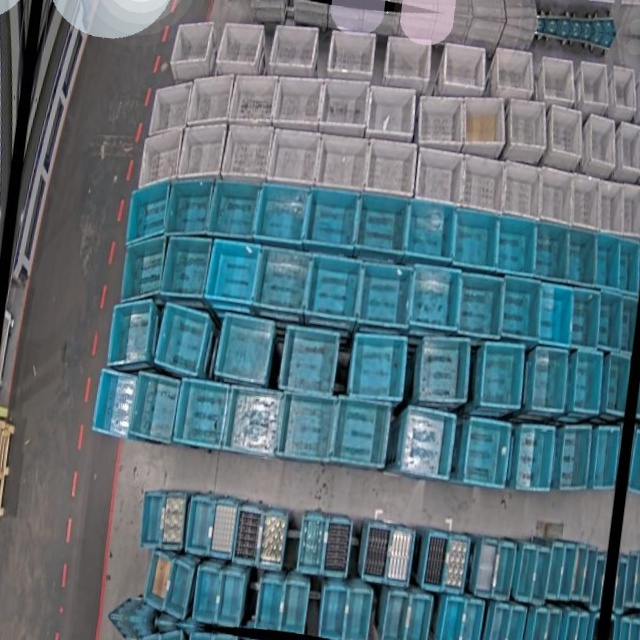Box: (277, 323, 342, 400), (213, 310, 276, 387), (346, 329, 410, 404), (224, 385, 286, 460), (152, 300, 211, 378), (328, 396, 390, 470), (398, 405, 458, 481), (301, 252, 364, 324), (252, 244, 313, 317), (173, 376, 232, 451), (415, 334, 473, 408), (124, 370, 181, 445), (202, 236, 261, 308), (280, 391, 337, 465), (301, 184, 362, 253), (354, 259, 414, 329), (158, 231, 215, 303), (254, 180, 312, 248), (351, 191, 409, 258), (407, 264, 464, 332), (205, 175, 262, 243), (162, 172, 217, 242), (218, 120, 274, 188), (401, 198, 458, 264), (267, 126, 323, 193), (461, 415, 512, 488), (134, 125, 187, 195), (106, 295, 153, 373), (119, 232, 167, 308), (475, 340, 526, 411), (455, 272, 508, 339), (89, 368, 139, 439), (178, 119, 230, 185), (414, 91, 471, 151), (315, 131, 371, 192), (125, 175, 171, 249), (447, 206, 500, 270), (364, 138, 420, 198), (412, 146, 467, 207), (364, 82, 419, 143), (316, 74, 371, 135), (272, 72, 327, 131), (498, 275, 545, 343), (226, 69, 280, 128), (512, 422, 558, 491), (184, 69, 235, 130), (528, 345, 572, 414), (491, 214, 539, 277), (490, 44, 541, 103), (458, 154, 508, 213), (459, 93, 511, 149), (147, 77, 192, 140), (499, 160, 546, 220), (534, 52, 582, 109), (556, 423, 595, 493), (533, 283, 575, 347), (529, 220, 571, 282), (534, 167, 577, 227), (564, 174, 606, 233), (383, 35, 435, 82), (569, 349, 606, 415), (561, 226, 601, 287), (506, 98, 552, 150), (590, 179, 631, 237), (269, 23, 319, 70), (327, 28, 377, 75), (169, 17, 215, 68), (216, 19, 265, 66), (602, 62, 640, 122), (565, 288, 602, 349), (546, 104, 588, 157), (442, 44, 490, 90), (601, 352, 634, 418), (297, 512, 330, 576), (254, 507, 287, 571), (591, 230, 626, 290), (182, 493, 215, 556), (592, 425, 623, 492), (157, 488, 189, 552), (584, 113, 621, 168), (207, 497, 239, 560), (232, 505, 264, 567), (321, 514, 352, 578), (593, 291, 625, 351), (360, 521, 391, 582), (163, 559, 194, 620), (136, 491, 167, 552), (191, 567, 222, 625), (385, 525, 414, 587), (143, 550, 172, 612), (422, 529, 450, 592), (317, 585, 349, 640), (575, 60, 614, 105), (443, 532, 471, 594), (216, 574, 246, 631), (254, 577, 285, 631), (473, 536, 499, 597), (280, 583, 310, 635), (344, 590, 374, 640), (615, 237, 640, 294), (381, 591, 410, 640), (494, 540, 518, 599), (404, 594, 434, 640), (530, 547, 553, 606), (615, 121, 640, 175), (517, 542, 539, 601), (558, 541, 579, 601), (546, 540, 567, 599), (618, 184, 640, 237), (439, 597, 466, 640), (570, 543, 590, 601), (459, 597, 485, 640), (581, 546, 600, 604), (589, 554, 606, 612), (487, 603, 513, 640), (503, 604, 528, 640), (527, 606, 549, 640), (541, 608, 563, 640), (561, 611, 581, 640), (571, 612, 590, 640), (631, 72, 640, 129), (587, 614, 600, 640), (636, 184, 640, 238), (640, 126, 640, 174)
